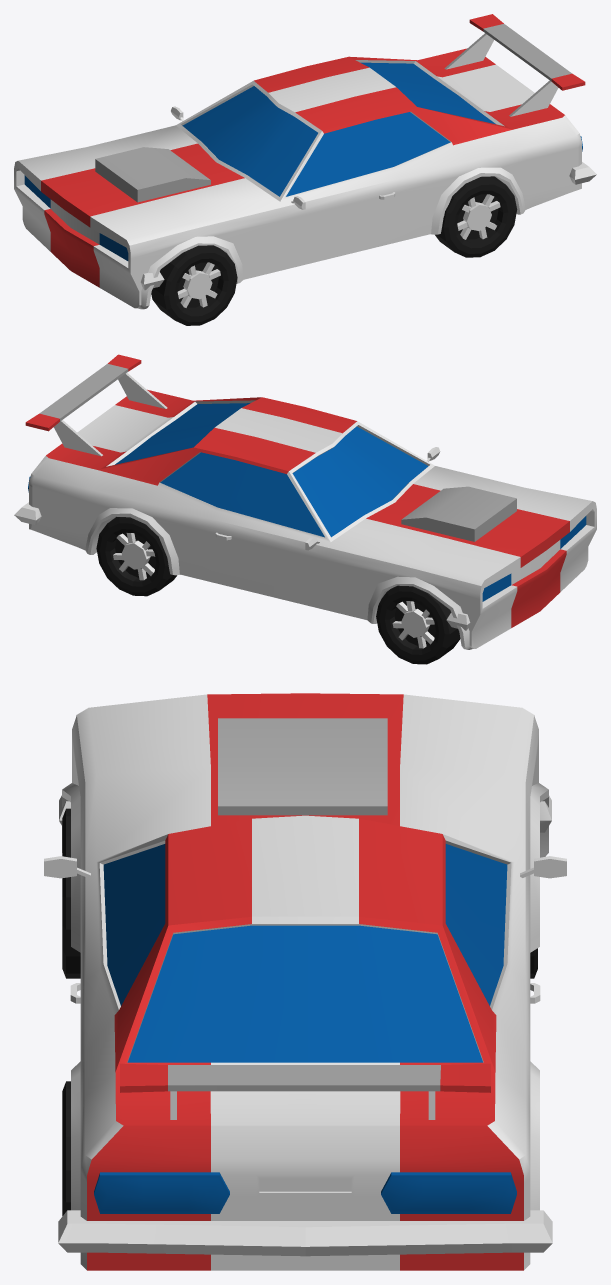
File: car.fbx
3 renders of one model, top to bottom at view 1: azimuth 30°, elevation 25°; view 2: azimuth 150°, elevation 25°; view 3: azimuth 270°, elevation 25°, orthographic. The views are drawn at different scales.
Parts seen in each view (by area): view 1: polySurface268; view 2: polySurface268; view 3: polySurface268.
Part boxes in pixels (x1,y1,x2,y2): polySurface268: (14, 14, 596, 325); polySurface268: (14, 354, 596, 664); polySurface268: (44, 693, 566, 1270).
Bounding box in the file's own units: 412 × 121 × 197.
